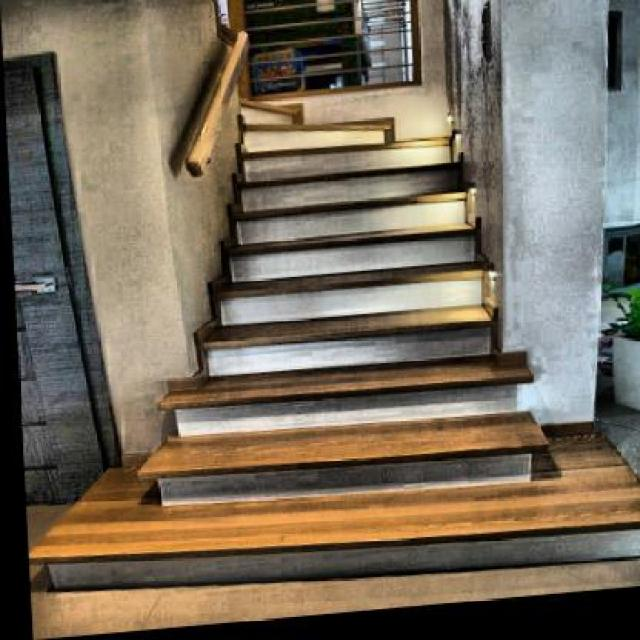stair: (114, 100, 531, 529)
